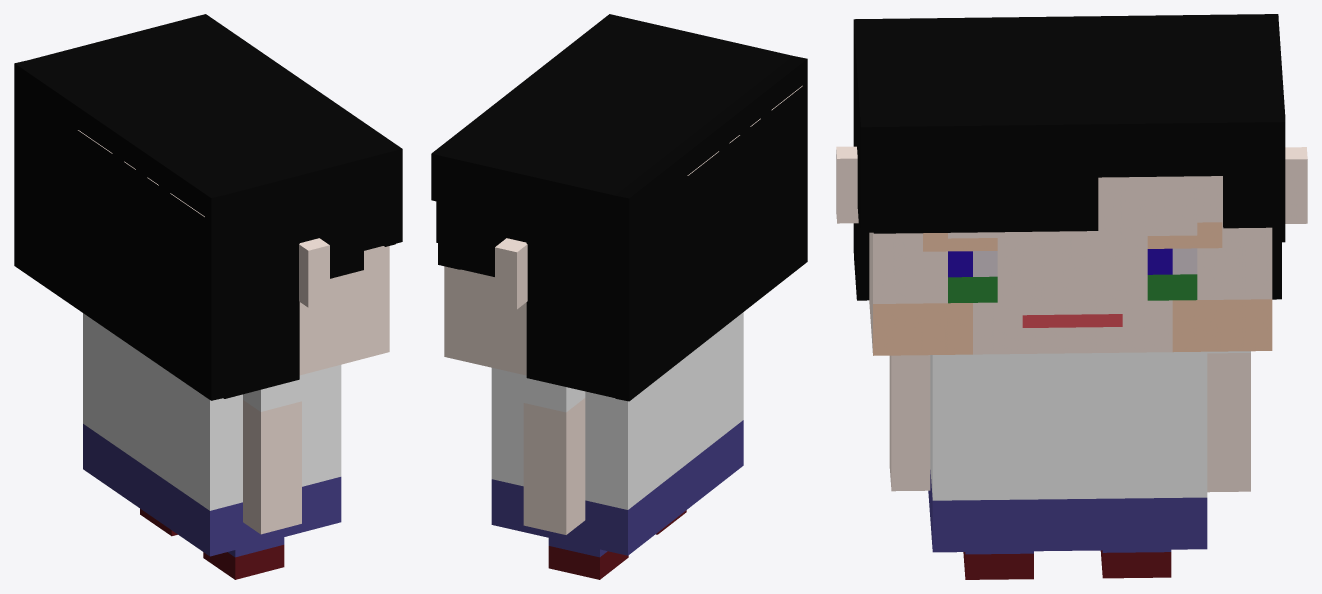
The model's file is player 1.fbx.
3 renders of one model, left to right at view 1: azimuth 30°, elevation 25°; view 2: azimuth 150°, elevation 25°; view 3: azimuth 270°, elevation 25°, orthographic. The views are drawn at different scales.
Parts seen in each view (by area): view 1: Cube.019, Cube.001, Cube.018; view 2: Cube.019, Cube.001, Cube.018; view 3: Cube.019, Cube.001, Cube.018.
Part boxes in pixels (x1,y1,x2,y2): Cube.019: (14,14,402,400); Cube.001: (83,313,341,579); Cube.018: (78,130,389,375); Cube.019: (431,14,807,401); Cube.001: (491,312,743,579); Cube.018: (444,85,802,375); Cube.019: (853,14,1285,300); Cube.001: (889,351,1250,579); Cube.018: (836,146,1307,355).
Size of the model in its own units: 234 by 477 by 413.
